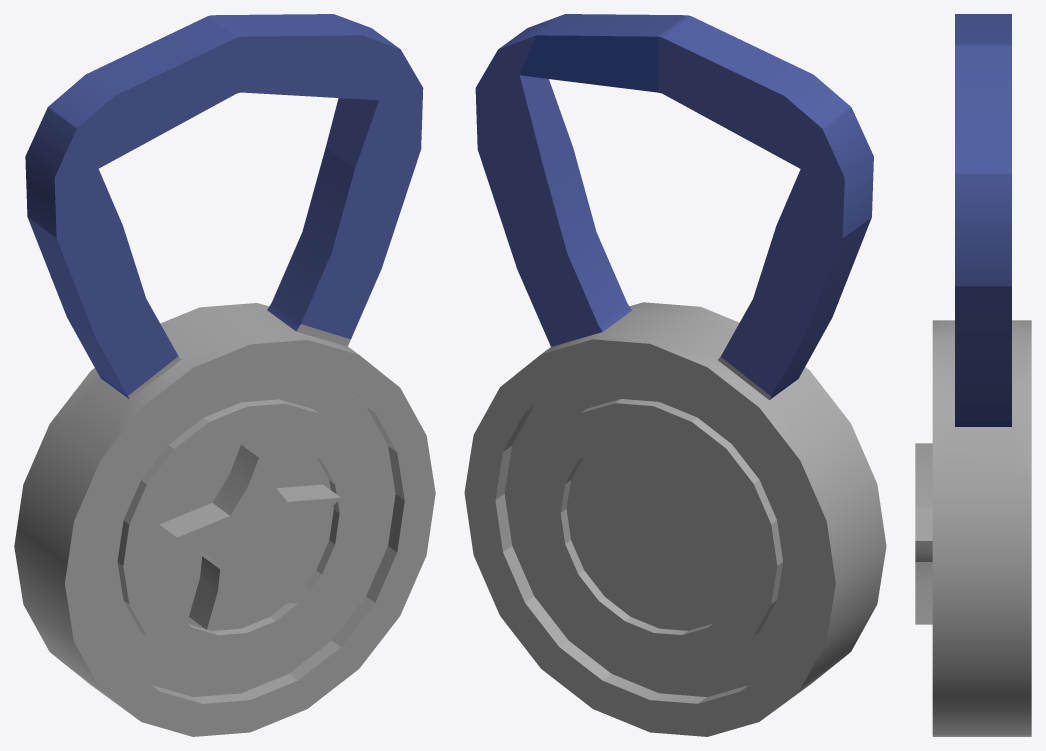
File: points1.fbx
3 renders of one model, left to right at view 1: azimuth 30°, elevation 25°; view 2: azimuth 150°, elevation 25°; view 3: azimuth 270°, elevation 25°, orthographic. The views are drawn at different scales.
Visible parts, largest first — view 1: medalla; view 2: medalla; view 3: medalla.
Part boxes in pixels (<box>): medalla: <box>14,14,435,736</box>; medalla: <box>464,14,886,736</box>; medalla: <box>915,14,1031,736</box>.
Size of the model in its own units: 1.5 by 2.66 by 0.4173.
